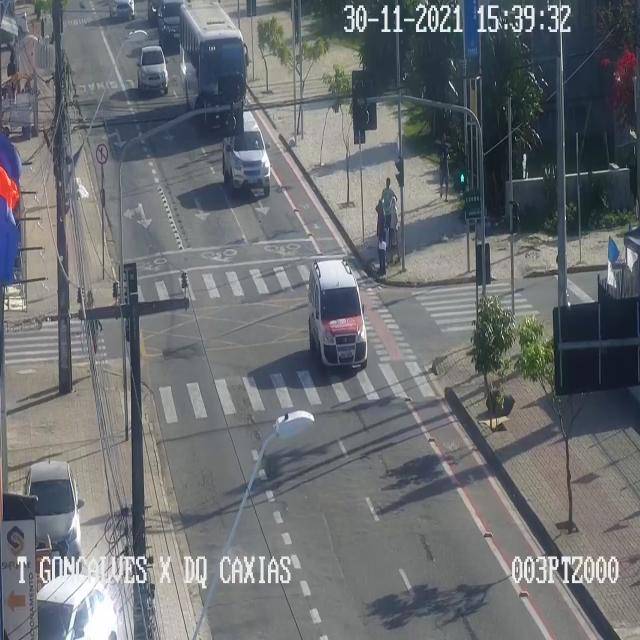Bus: (178, 1, 248, 130)
Car: (308, 258, 367, 369), (24, 458, 84, 564), (37, 573, 122, 639), (222, 111, 270, 192), (136, 47, 168, 93), (158, 4, 180, 51), (108, 0, 141, 17), (140, 0, 164, 20)
